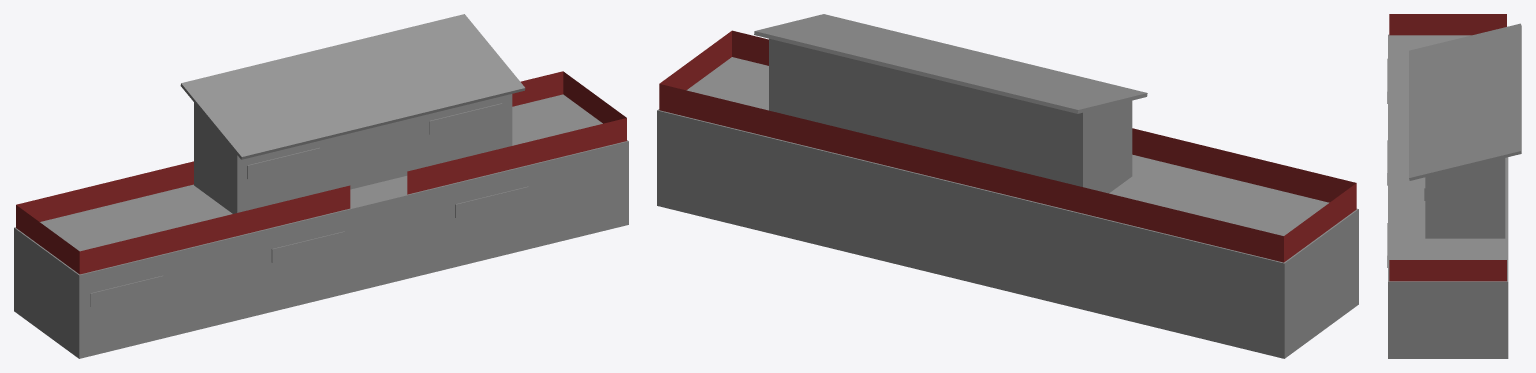
File: Dummy Building 6.FBX
3 views of the same model, side by side, from view 1: azimuth 30°, elevation 25°; view 2: azimuth 150°, elevation 25°; view 3: azimuth 270°, elevation 25° (orthographic). The views are drawn at different scales.
Visible parts, largest first — view 1: Dummy Building 6, Object008, Object006, Object007, Object003, Object005, Object004; view 2: Dummy Building 6, Object008; view 3: Dummy Building 6, Object008.
Boxes of the visible parts, x1=… form: Dummy Building 6: x1=14, y1=14, x2=628, y2=358; Object008: x1=16, y1=71, x2=626, y2=274; Object006: x1=429, y1=103, x2=502, y2=134; Object007: x1=247, y1=147, x2=320, y2=179; Object003: x1=271, y1=231, x2=344, y2=262; Object005: x1=455, y1=186, x2=528, y2=217; Object004: x1=90, y1=275, x2=163, y2=306; Dummy Building 6: x1=657, y1=14, x2=1358, y2=358; Object008: x1=659, y1=30, x2=1356, y2=262; Dummy Building 6: x1=1388, y1=23, x2=1521, y2=358; Object008: x1=1389, y1=14, x2=1506, y2=281.
Bounding box in the file's own units: 3165 × 727 × 994.
